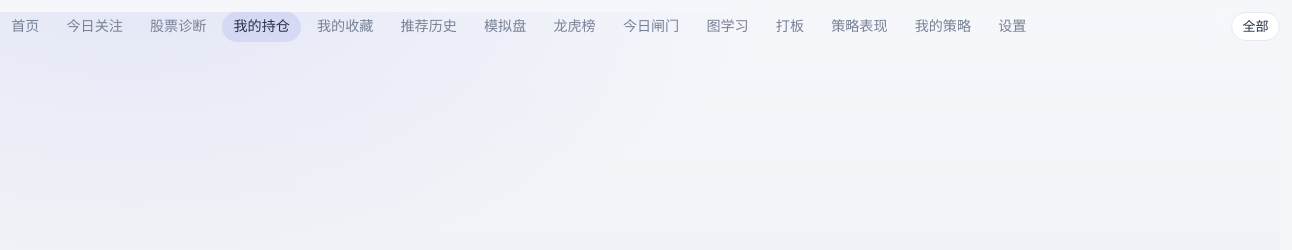
Test case: 横向展示模块，并可用全部菜单切换
Expected: the navigation bar named "基础导航" is shown, [0,12,1038,42]
Click the button "全部" at (1256, 27), box [1231,12,1280,41]
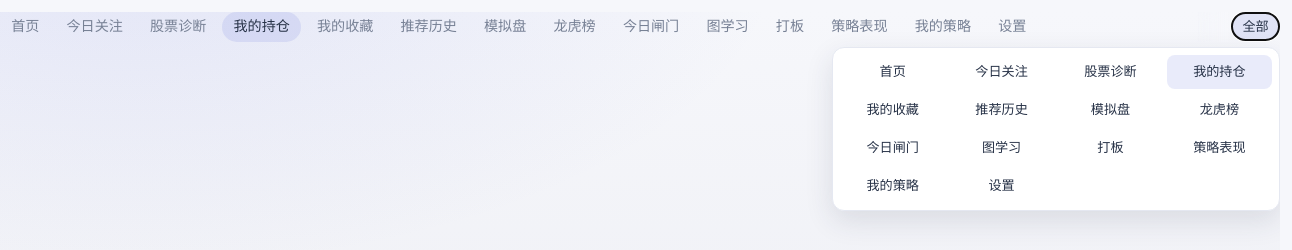
Now the menu named "全部功能模块" is shown, box [832,47,1280,211]
